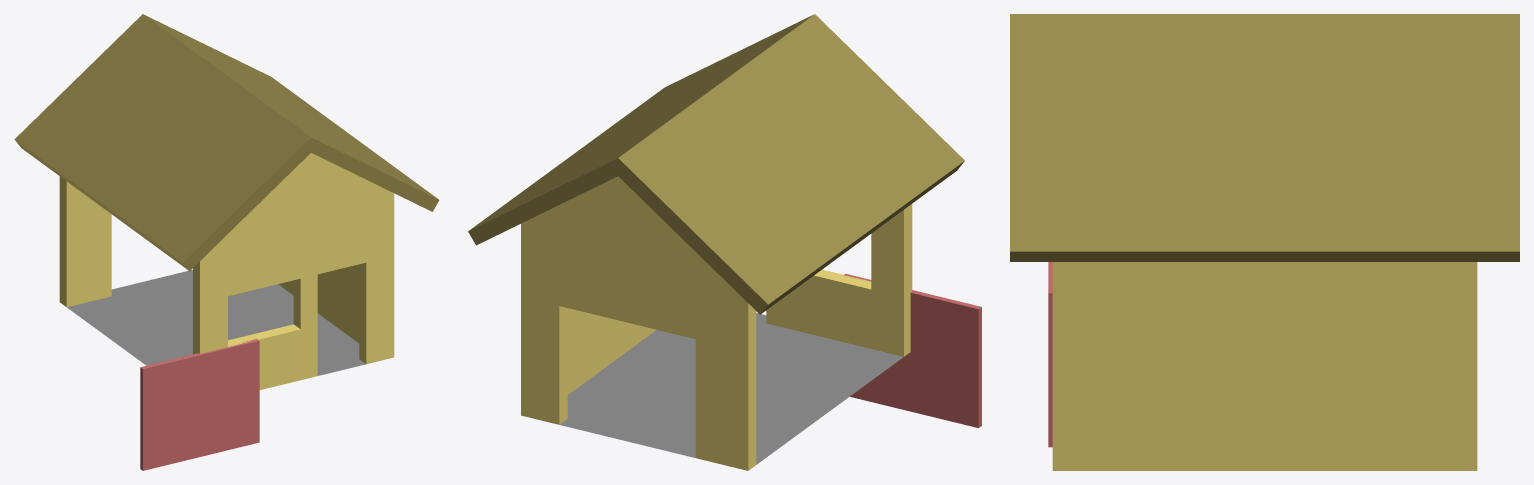
Rendered from result.glb.
The picture shows the model from 3 angles, left to right: view 1: azimuth 30°, elevation 25°; view 2: azimuth 150°, elevation 25°; view 3: azimuth 270°, elevation 25°; orthographic projection. The views are drawn at different scales.
Parts seen in each view (by area): view 1: b5a92885-a28f-44ff-a91c-e1d489b82e72__undefined (×2), 2b18a347-dfd2-4074-89b3-f458d40657a6__undefined, 31191408-14b5-4003-9da3-504e4624dcc1__Plane, 311689b3-0350-4125-b967-2f7a0e02ed96__Box_9, 2066ee29-9710-422c-8683-36a5cdebded2__Box_12, a860acfc-62be-4c42-b4a7-f847d9fc60b6__Box_3; view 2: b5a92885-a28f-44ff-a91c-e1d489b82e72__undefined (×2), 2b18a347-dfd2-4074-89b3-f458d40657a6__undefined, 31191408-14b5-4003-9da3-504e4624dcc1__Plane, 311689b3-0350-4125-b967-2f7a0e02ed96__Box_9, a860acfc-62be-4c42-b4a7-f847d9fc60b6__Box_3, 2066ee29-9710-422c-8683-36a5cdebded2__Box_12; view 3: b5a92885-a28f-44ff-a91c-e1d489b82e72__undefined, 2b18a347-dfd2-4074-89b3-f458d40657a6__undefined, 311689b3-0350-4125-b967-2f7a0e02ed96__Box_9.
Boxes of the visible parts, x1,y1,x2,y2 form: b5a92885-a28f-44ff-a91c-e1d489b82e72__undefined (×2): (14,14,439,271); 2b18a347-dfd2-4074-89b3-f458d40657a6__undefined: (59,153,394,389); 31191408-14b5-4003-9da3-504e4624dcc1__Plane: (67,269,365,375); 311689b3-0350-4125-b967-2f7a0e02ed96__Box_9: (140,339,259,470); 2066ee29-9710-422c-8683-36a5cdebded2__Box_12: (182,350,220,461); a860acfc-62be-4c42-b4a7-f847d9fc60b6__Box_3: (165,371,237,439); b5a92885-a28f-44ff-a91c-e1d489b82e72__undefined (×2): (468,14,964,314); 2b18a347-dfd2-4074-89b3-f458d40657a6__undefined: (521,176,912,470); 31191408-14b5-4003-9da3-504e4624dcc1__Plane: (559,313,903,464); 311689b3-0350-4125-b967-2f7a0e02ed96__Box_9: (843,273,981,427); a860acfc-62be-4c42-b4a7-f847d9fc60b6__Box_3: (880,322,952,391); 2066ee29-9710-422c-8683-36a5cdebded2__Box_12: (887,290,934,416); b5a92885-a28f-44ff-a91c-e1d489b82e72__undefined: (1010,14,1519,261); 2b18a347-dfd2-4074-89b3-f458d40657a6__undefined: (1052,262,1477,470); 311689b3-0350-4125-b967-2f7a0e02ed96__Box_9: (1048,262,1052,447).
Size of the model in its own units: 584 by 600 by 600.
